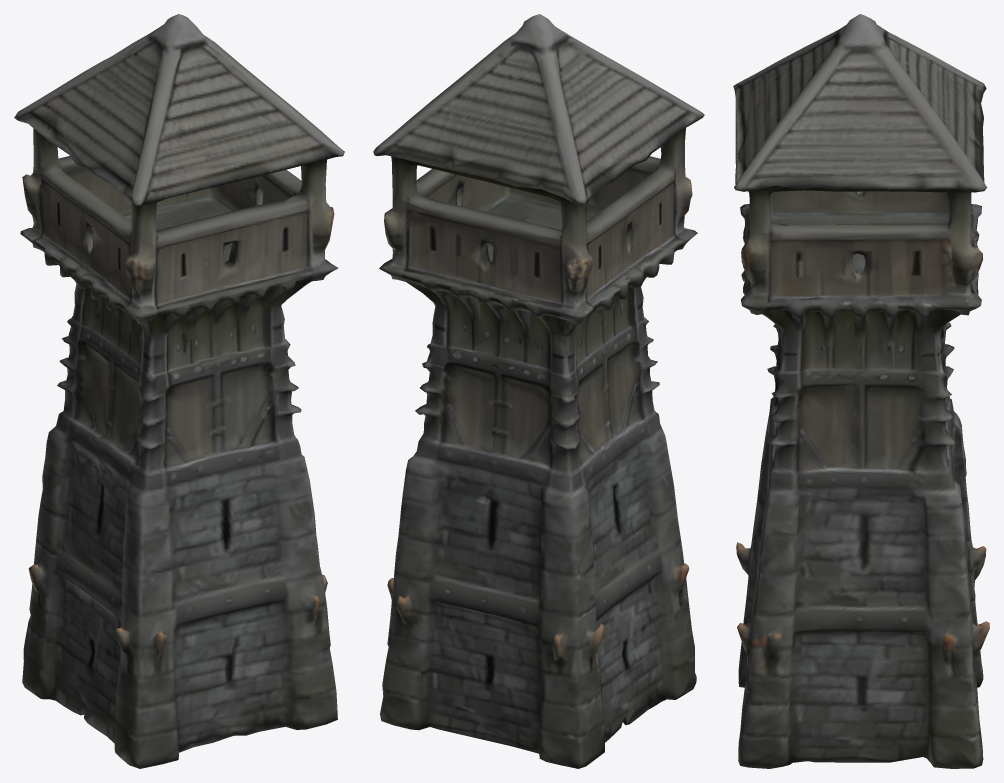
The model's file is watch_tower.glb.
3 views of the same model, side by side, from view 1: azimuth 30°, elevation 25°; view 2: azimuth 150°, elevation 25°; view 3: azimuth 270°, elevation 25° (orthographic). The views are drawn at different scales.
Visible parts, largest first — view 1: Watchtower; view 2: Watchtower; view 3: Watchtower.
Part boxes in pixels (box(x1,y1,x2,y2)): Watchtower: box(14, 14, 344, 768); Watchtower: box(373, 14, 704, 768); Watchtower: box(733, 14, 989, 768).
Bounding box in the file's own units: 2.92 × 9 × 2.98.
Materials: 1 (1 with a texture image).
